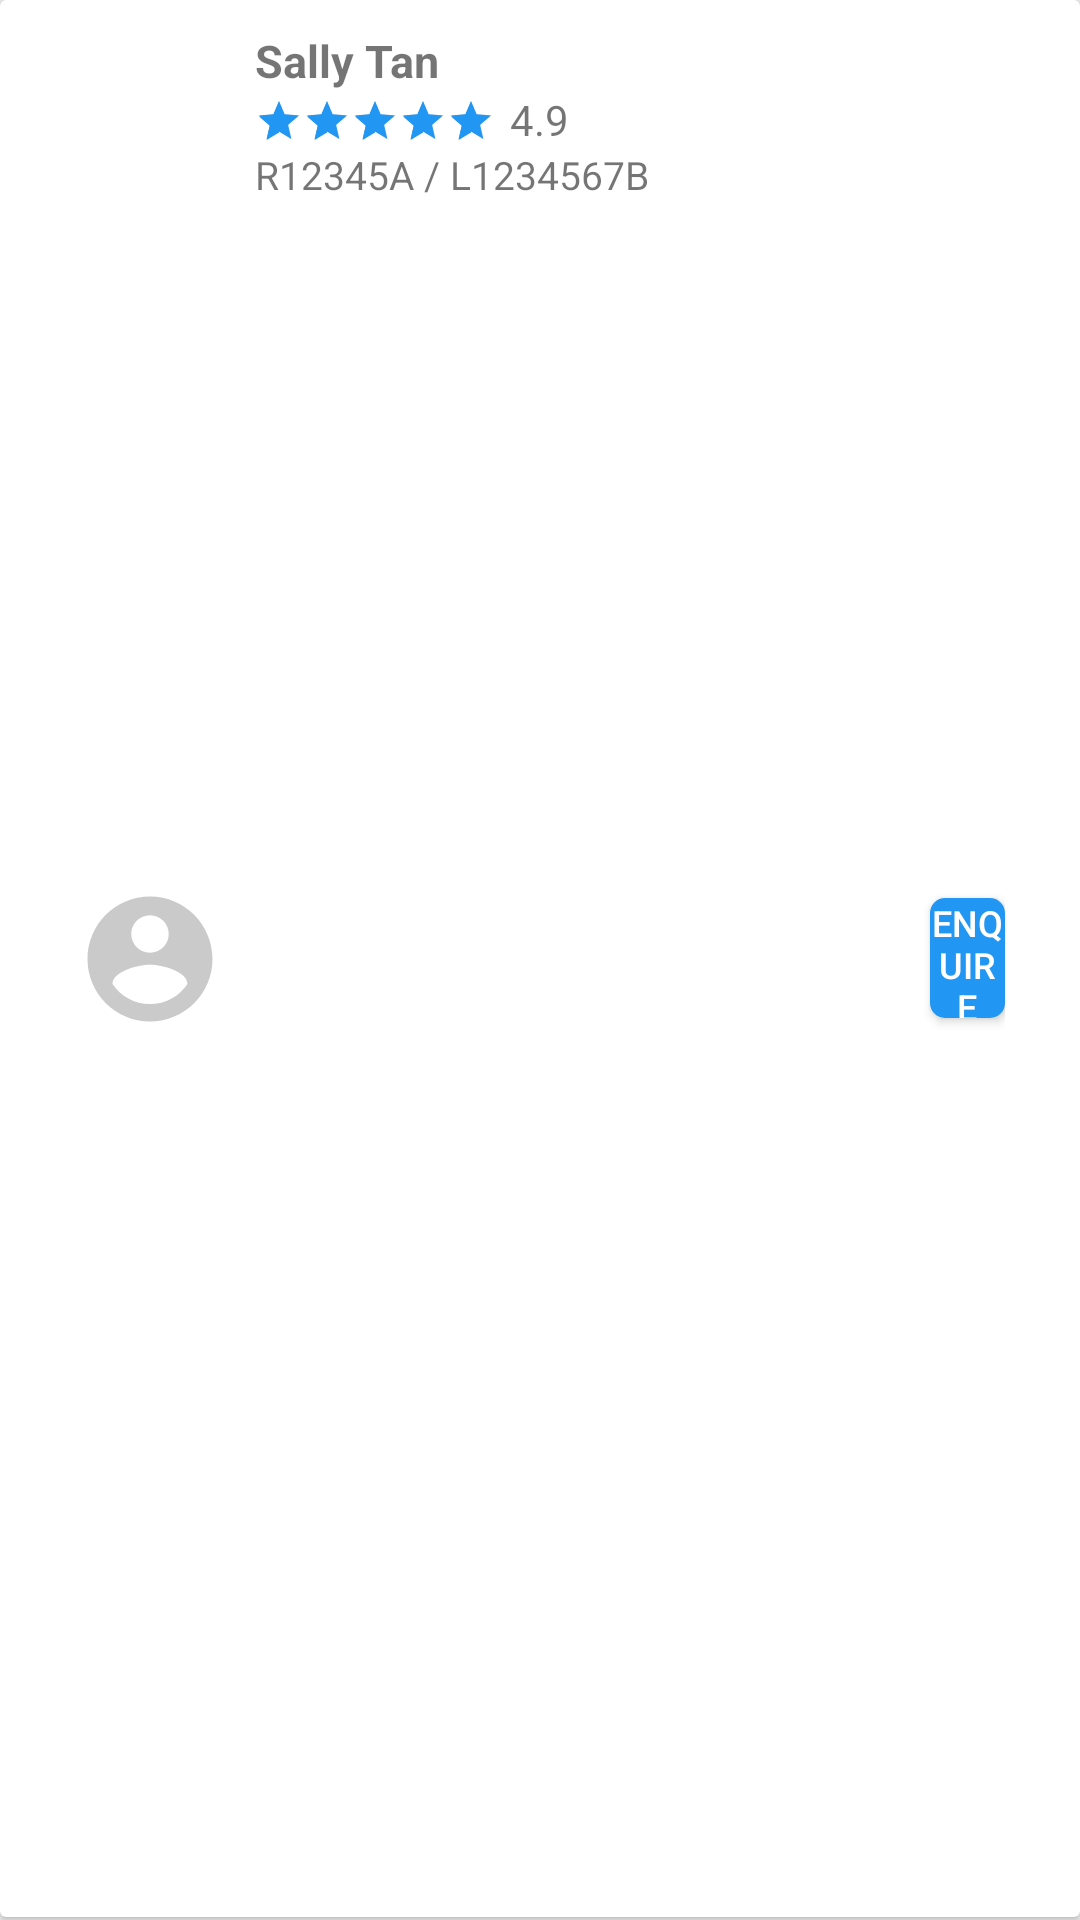

Where to tap for icons on this 1080x1920 app screen, as (x,y):
account circle: (150,959)
